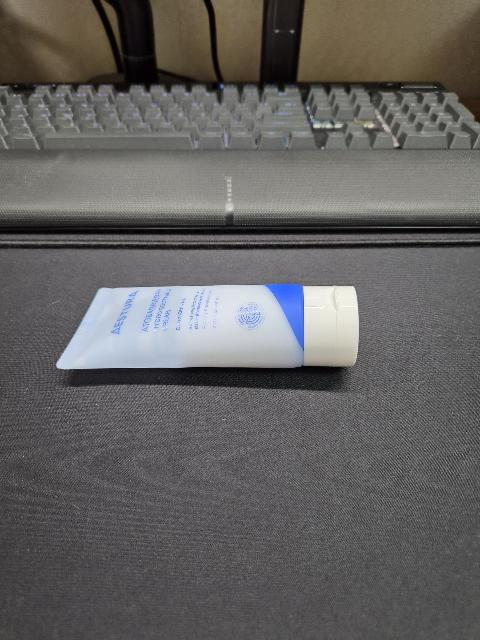handcream: (56, 284, 359, 370)
